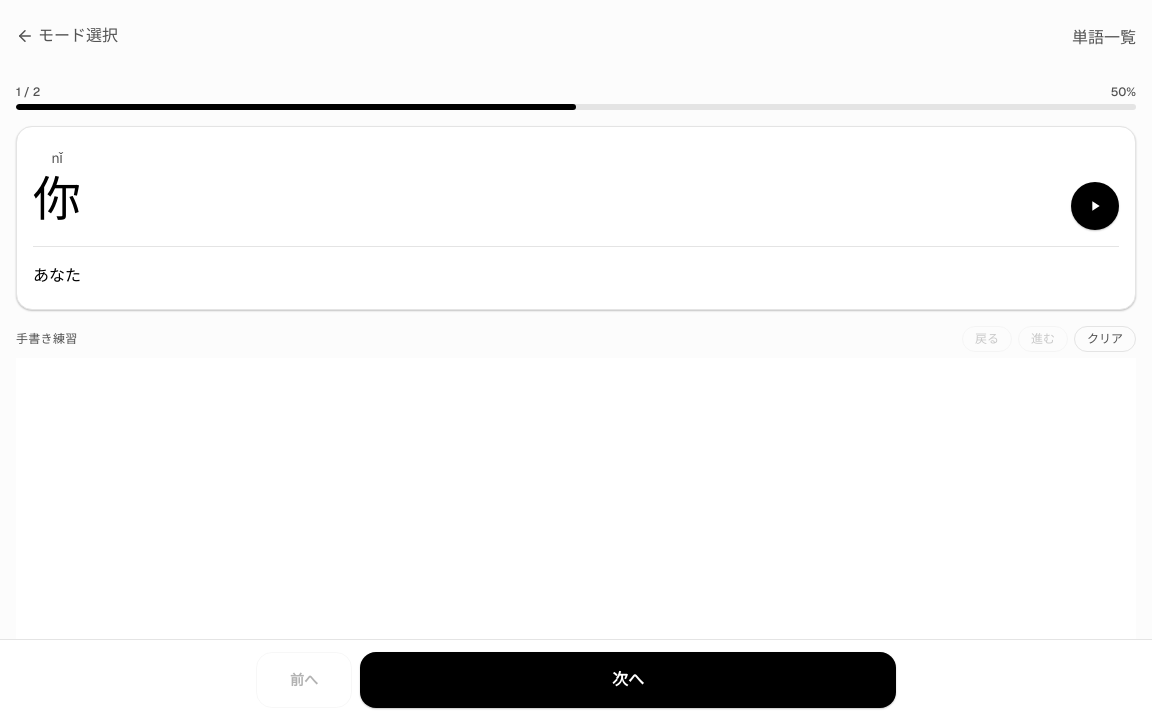
Test: LearnRunner › 暗記中に次へ進むと次の単語を表示して中国語音声素材を再生すること
This screenshot has width=1152, height=720.
Check: the text "nǐ" is shown, box [51,147,63,170]
Check: the text "あなた" is shown, box [33,265,81,286]
Click the button "次へ" at coordinates (628, 680), box [360,652,896,708]
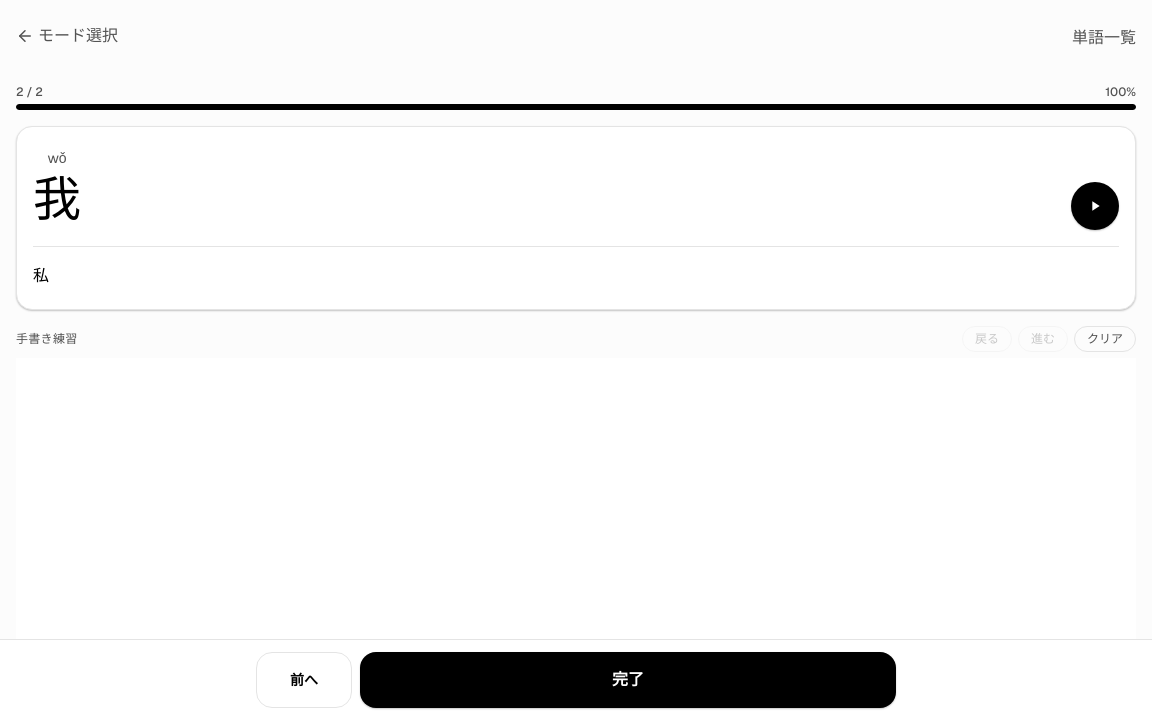
Check: the text "wǒ" is shown, box [47,147,67,170]
Check: the text "私" is shown, box [33,265,49,286]
